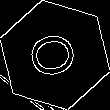O_E: (25, 28, 85, 82)
